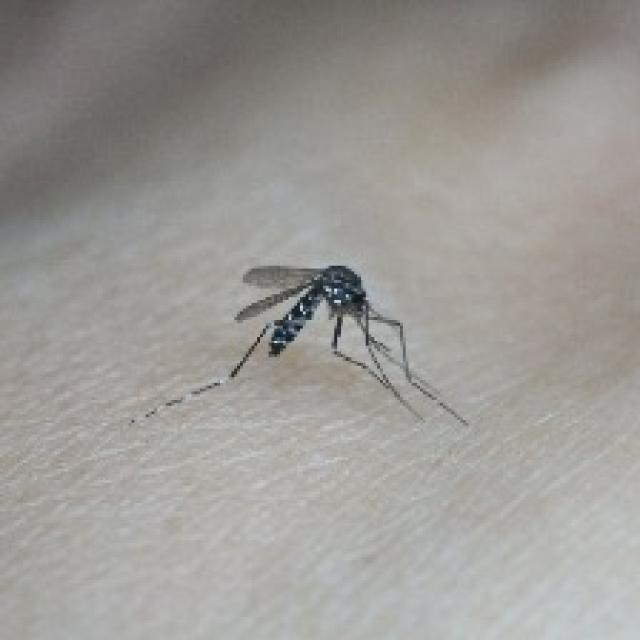aedes: (132, 260, 468, 429)
